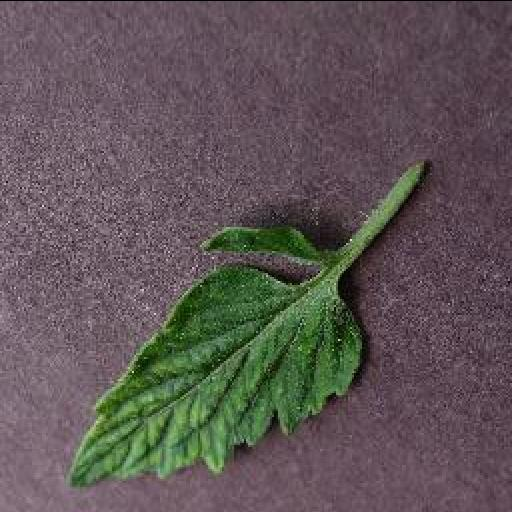disease_tomato: (62, 221, 364, 492)
